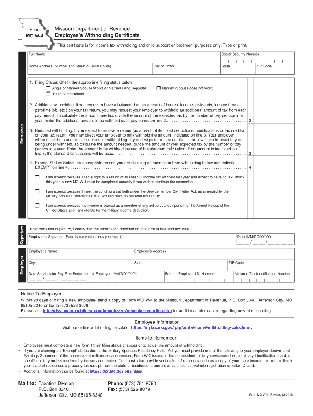checkbox: (44, 85, 51, 91), (154, 85, 161, 91), (34, 174, 40, 180), (34, 188, 40, 194), (34, 202, 40, 208), (45, 91, 51, 96)
textbox: (27, 232, 237, 246), (26, 50, 221, 64), (131, 246, 296, 261), (251, 169, 296, 219), (251, 76, 295, 124), (27, 269, 166, 283), (26, 245, 134, 261), (26, 62, 154, 75), (252, 121, 295, 157), (26, 258, 134, 272), (132, 258, 229, 272), (162, 269, 234, 284), (219, 50, 296, 64), (225, 258, 295, 272), (234, 231, 296, 246), (151, 62, 221, 75), (231, 269, 295, 283), (251, 154, 296, 171), (253, 61, 295, 76), (219, 62, 256, 76)
